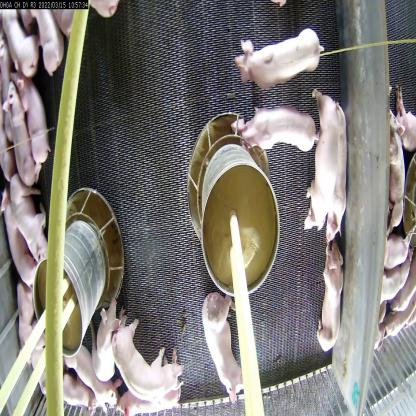Pig: (194, 280, 249, 413), (235, 21, 324, 94), (104, 304, 165, 394), (0, 188, 44, 305), (65, 346, 127, 415), (310, 96, 340, 238), (233, 105, 314, 156), (316, 235, 348, 359), (6, 79, 34, 208), (0, 4, 44, 84), (77, 302, 123, 376), (113, 365, 181, 415), (16, 182, 57, 253), (31, 0, 64, 84), (330, 102, 348, 233)
